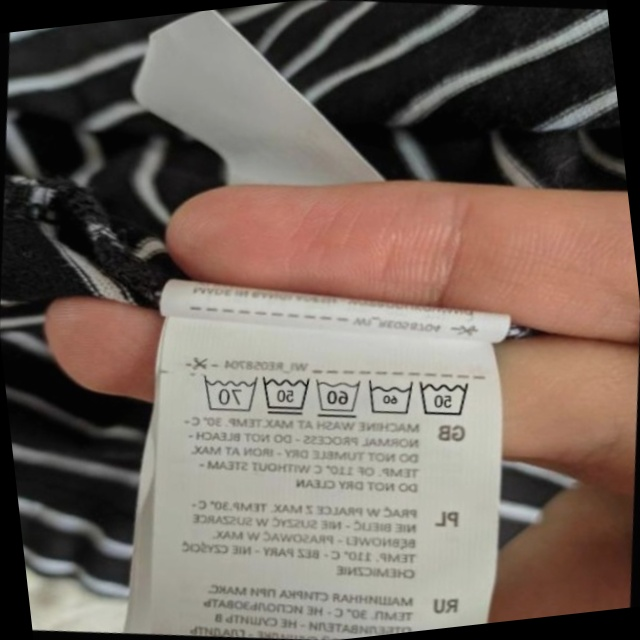50C: (411, 369, 474, 426), (254, 368, 314, 422)
60C: (307, 371, 366, 424), (360, 373, 418, 422)
70C: (194, 367, 262, 423)
